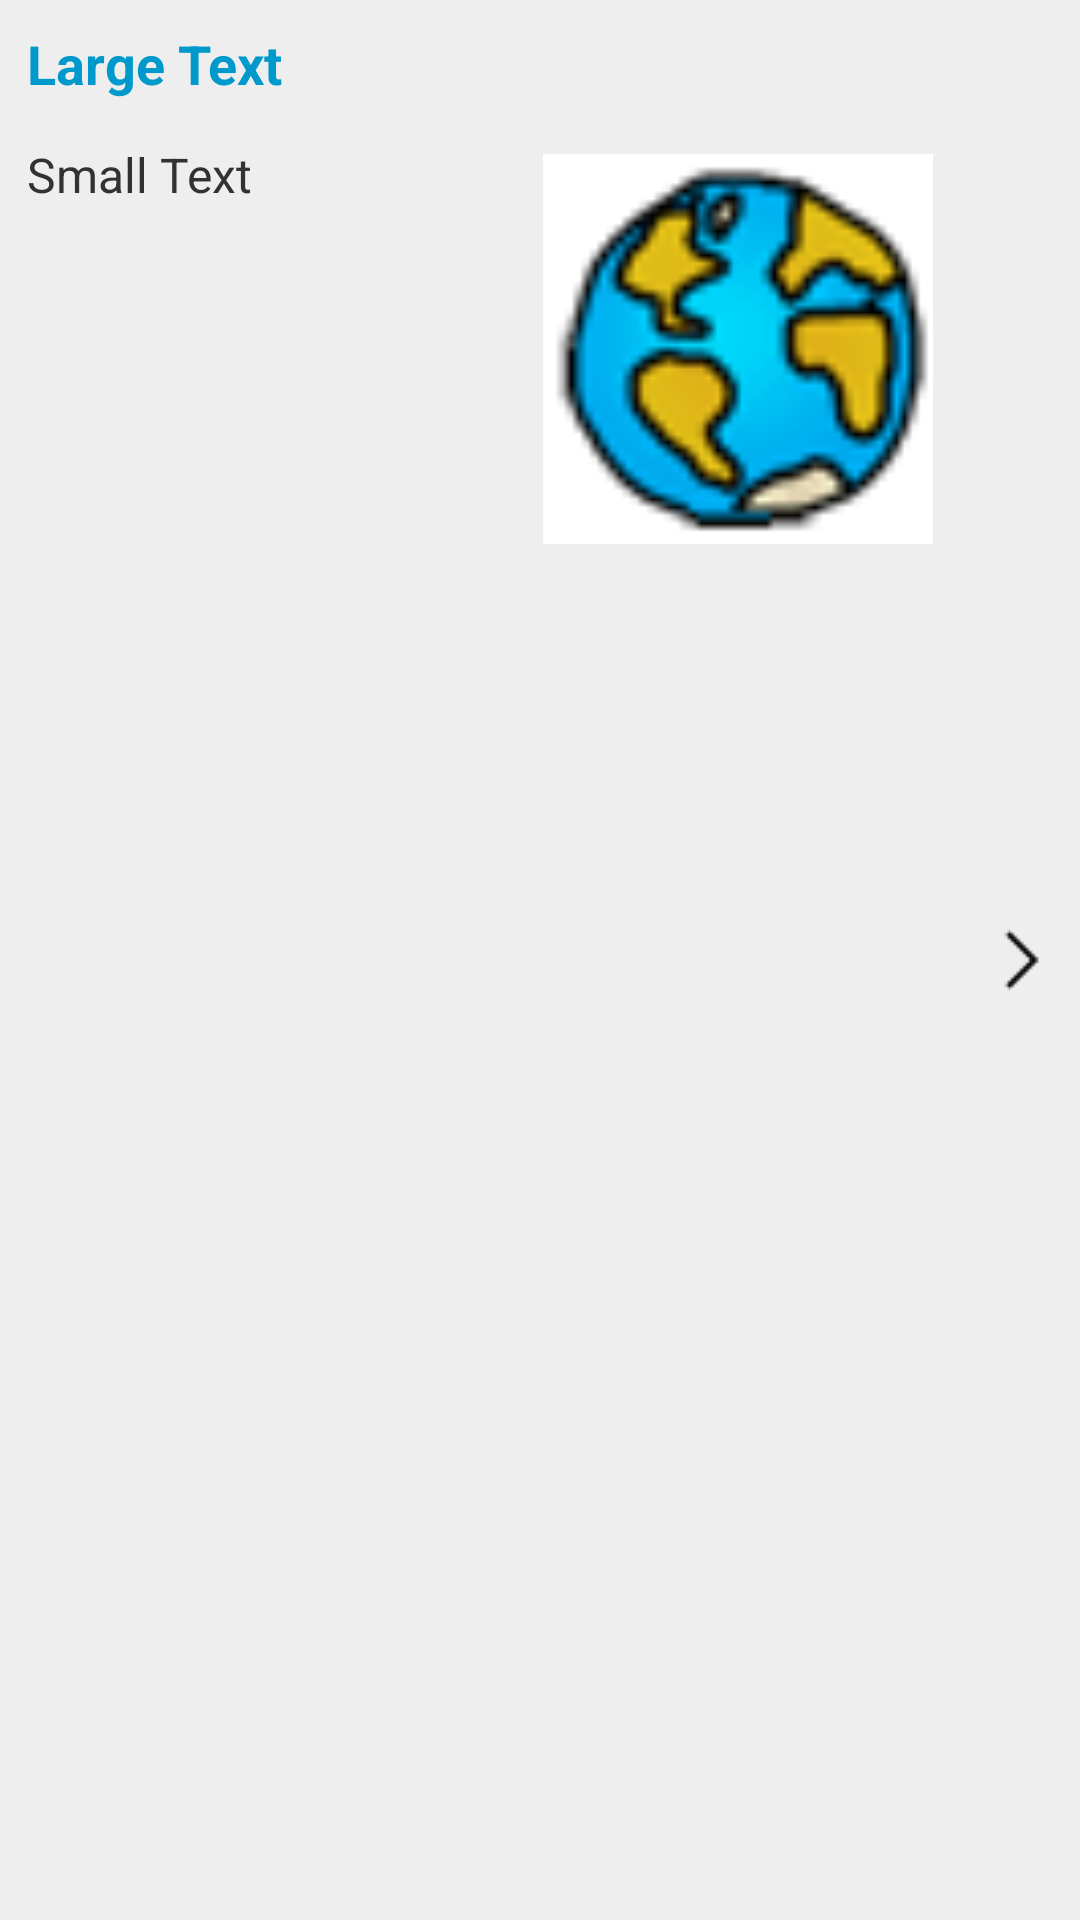

Where to tap for icons on this 1080px x 1920px app screen, as [x,y]:
right arrow: [1021,960]
